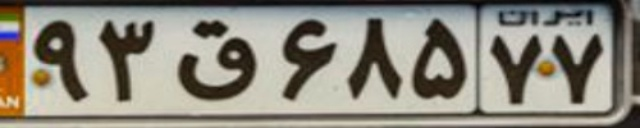3: (98, 19, 158, 100)
5: (412, 15, 465, 99)
6: (278, 17, 338, 102)
7: (549, 29, 603, 106), (488, 30, 540, 105)
8: (349, 16, 403, 101)
9: (35, 19, 92, 100)
ghaf: (175, 19, 259, 101)
